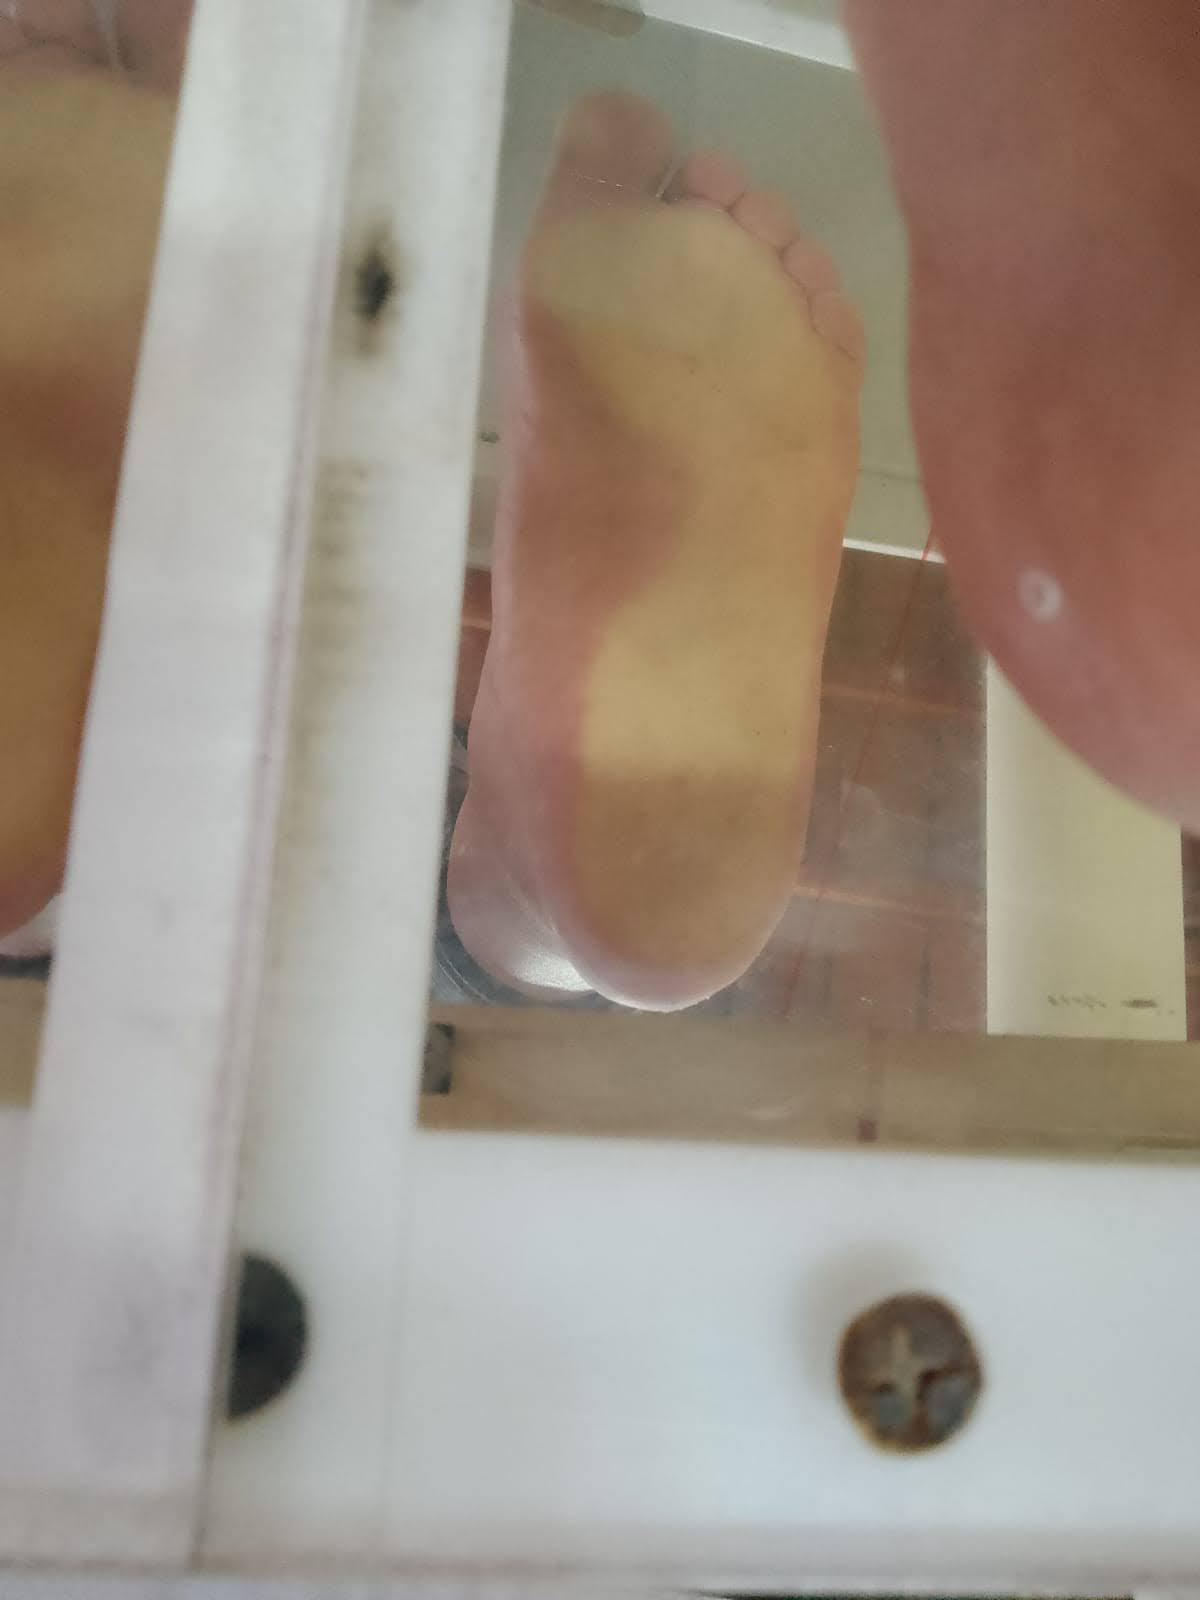Present: (511, 37, 895, 1057)
